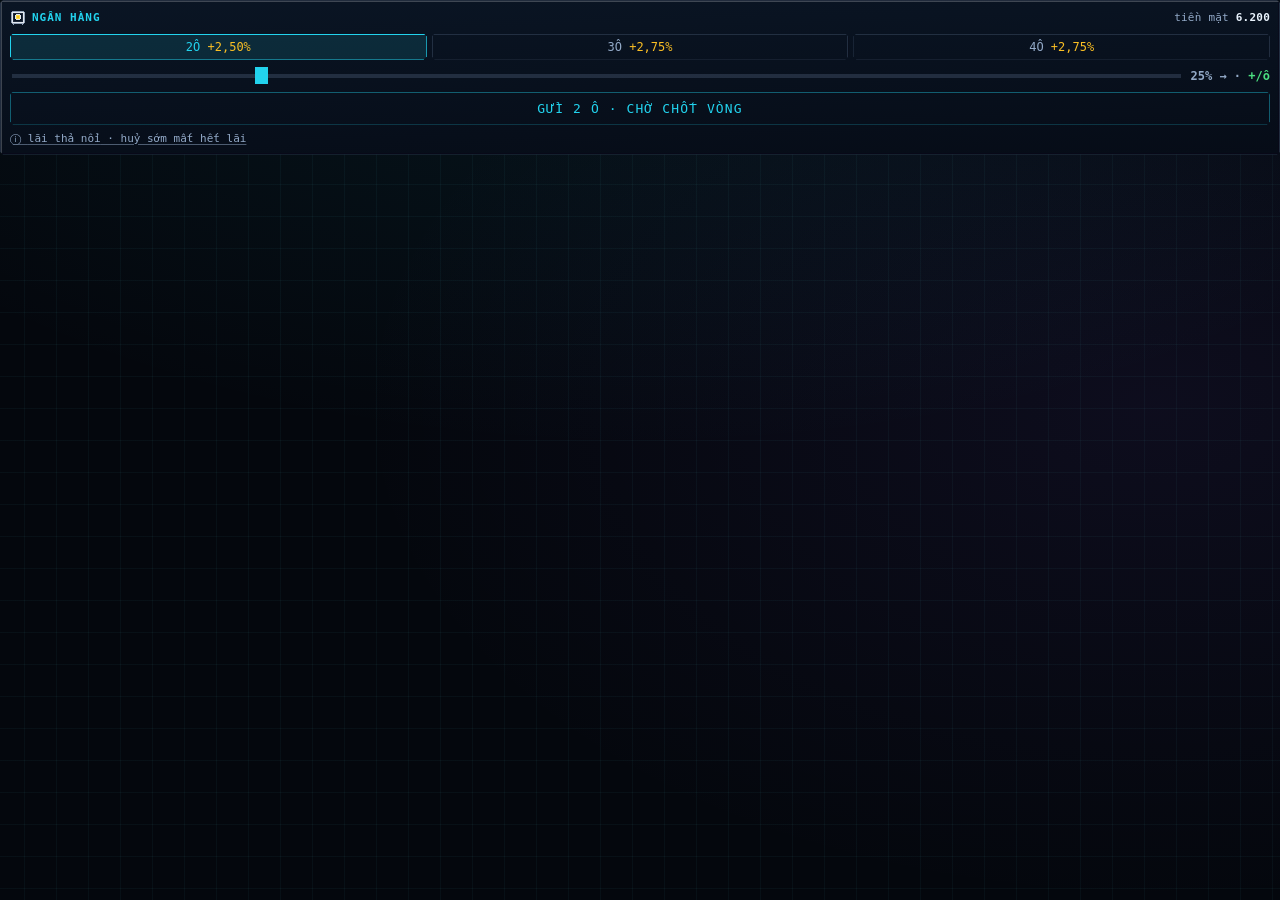
Test: IV. v54 (D405) — LUẬT SỔ đổi theo cờ trận `tiet_kiem_kinh_te` › ⭐ cả ba cờ: lãi THẢ NỔI · sổ CŨNG bị lạm phát ăn · câu đổ vỡ mang SỐ của server (5.000 · 20%)
Step 1. Click the button "ⓘ lãi thả nổi · huỷ sớm mất hết lãi" → (64, 138), box [10,132,1270,144]
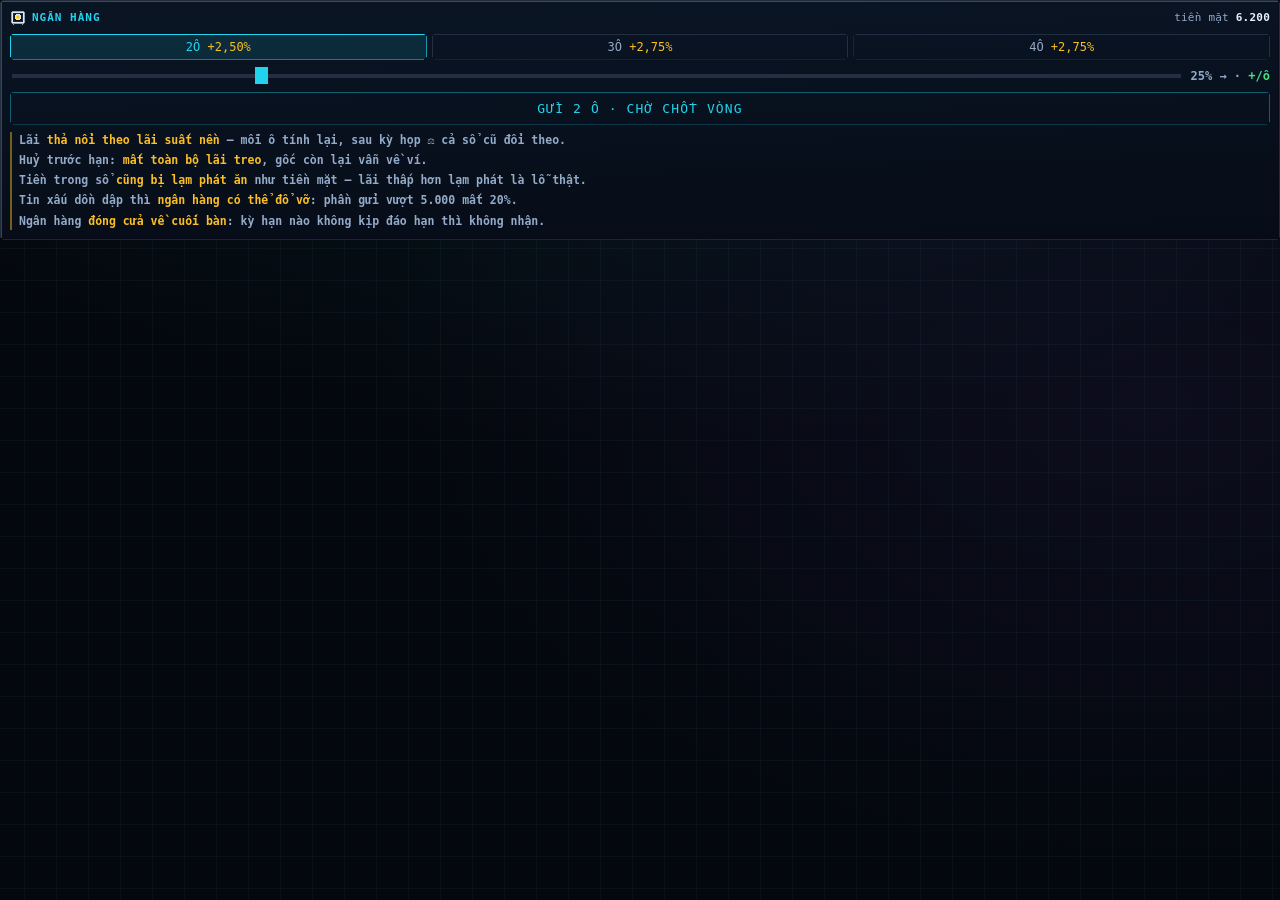
Now the element that starts with "Lãi" shows "thả nổi theo lãi suất nền", box [47,132,220,146]
Now the element that starts with "Tiền trong sổ" shows "cũng bị lạm phát ăn", box [116,173,248,187]
Now the element that starts with "Tin xấu dồn dập thì" reads "Tin xấu dồn dập thì ngân hàng có thể đổ vỡ: phần gửi vượt 5.000 mất 20%.", box [19,193,518,207]
